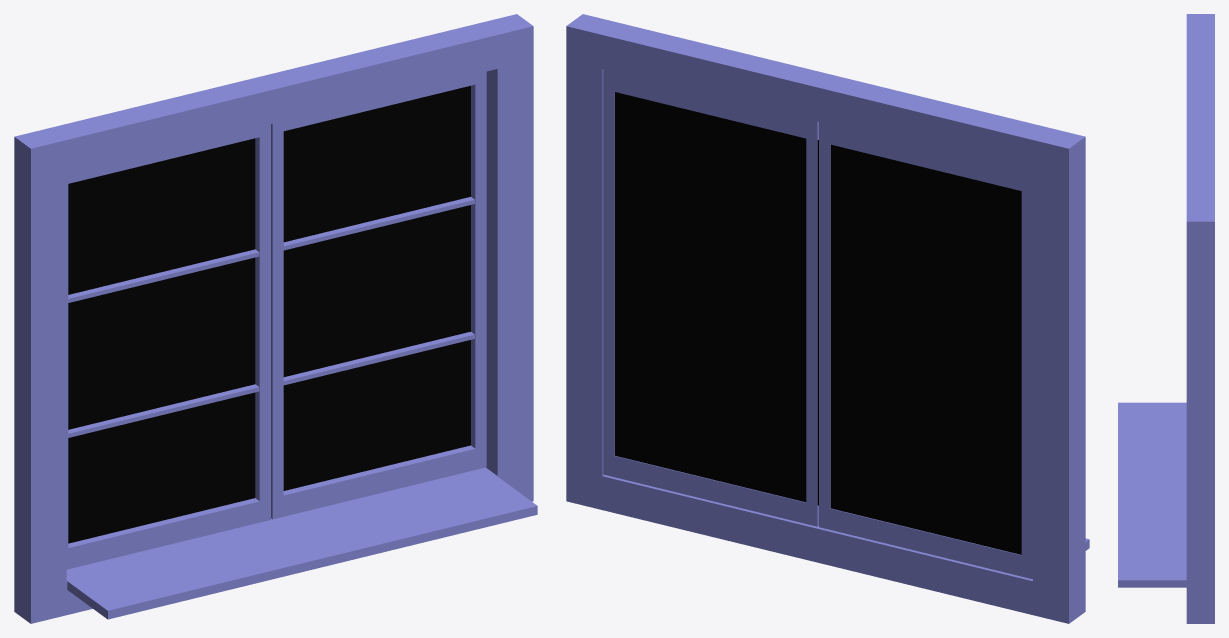
The model's file is Window.fbx.
3 views of the same model, side by side, from view 1: azimuth 30°, elevation 25°; view 2: azimuth 150°, elevation 25°; view 3: azimuth 270°, elevation 25° (orthographic). The views are drawn at different scales.
Visible parts, largest first — view 1: 큐브, 평면; view 2: 평면, 큐브; view 3: 큐브.
Part boxes in pixels (x1,y1,x2,y2): 큐브: (14,14,537,623); 평면: (68,85,470,543); 평면: (615,92,1021,554); 큐브: (566,14,1089,623); 큐브: (1118,14,1214,623).
Bounding box in the file's own units: 16.26 × 14.69 × 3.2.
